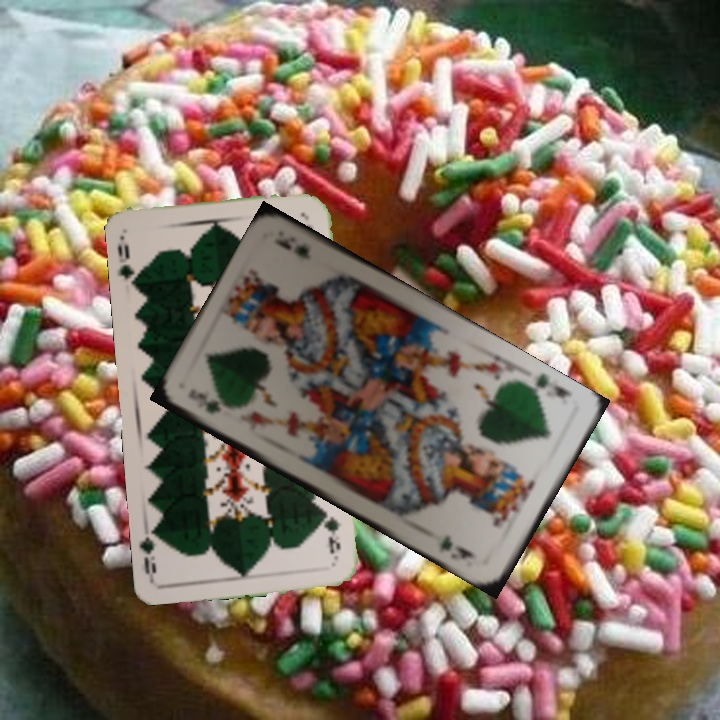G9: (114, 240, 143, 289), (321, 507, 343, 563)
GK: (521, 369, 575, 401), (192, 387, 223, 416)
